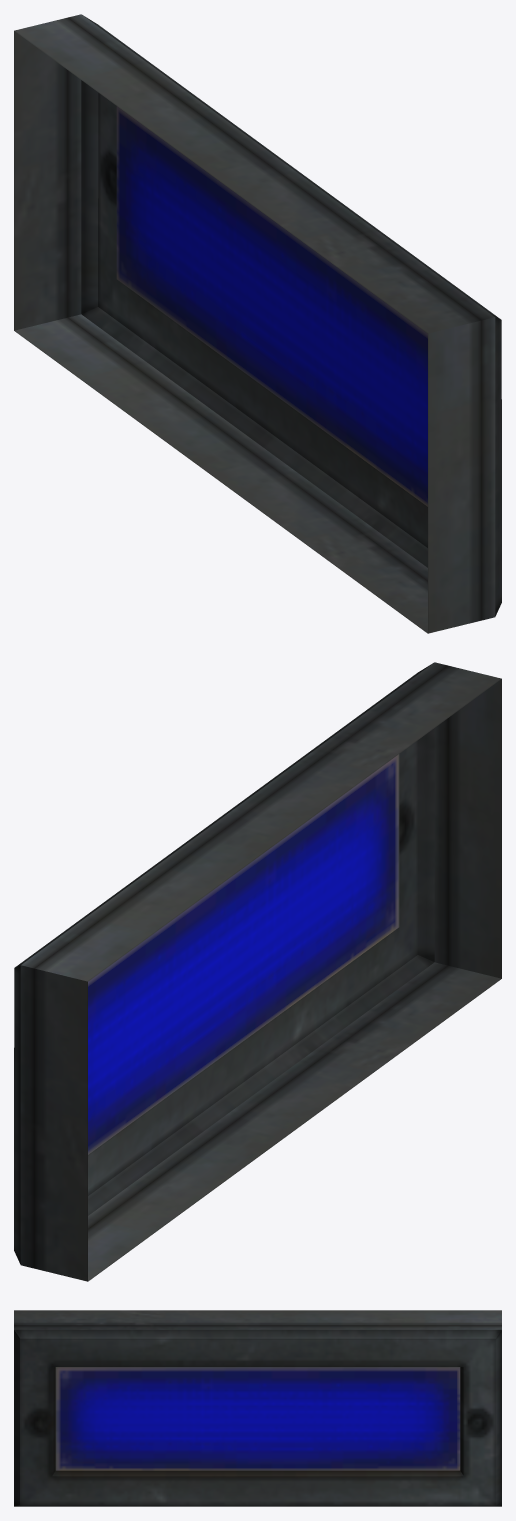
The model's file is light_outdoorwall03_on_blue_lod0.glb.
The picture shows the model from 3 angles, top to bottom: view 1: azimuth 30°, elevation 25°; view 2: azimuth 150°, elevation 25°; view 3: azimuth 270°, elevation 25°; orthographic projection. The views are drawn at different scales.
Visible parts, largest first — view 1: surf0, surf1; view 2: surf0, surf1; view 3: surf0, surf1.
Boxes of the visible parts, left/top/right/bottom form: surf0: left=14, top=14, right=501, bottom=633; surf1: left=116, top=106, right=427, bottom=506; surf0: left=14, top=662, right=501, bottom=1281; surf1: left=88, top=754, right=399, bottom=1154; surf0: left=14, top=1310, right=501, bottom=1506; surf1: left=55, top=1367, right=460, bottom=1470.
Bounding box in the file's own units: 1.1 × 4 × 10.
